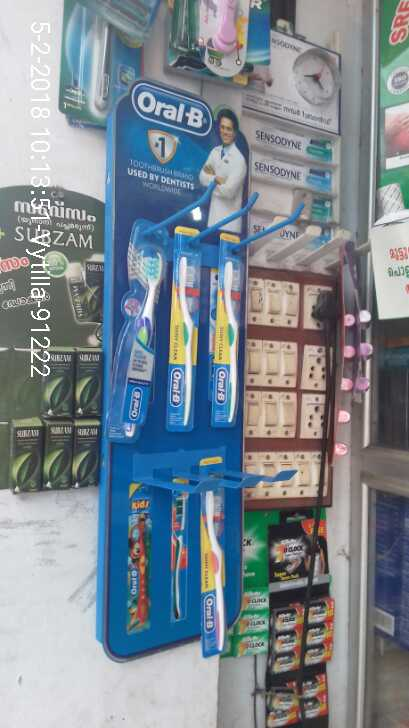oralb: (116, 215, 169, 441), (200, 457, 233, 651), (217, 231, 246, 426), (175, 224, 201, 430)
